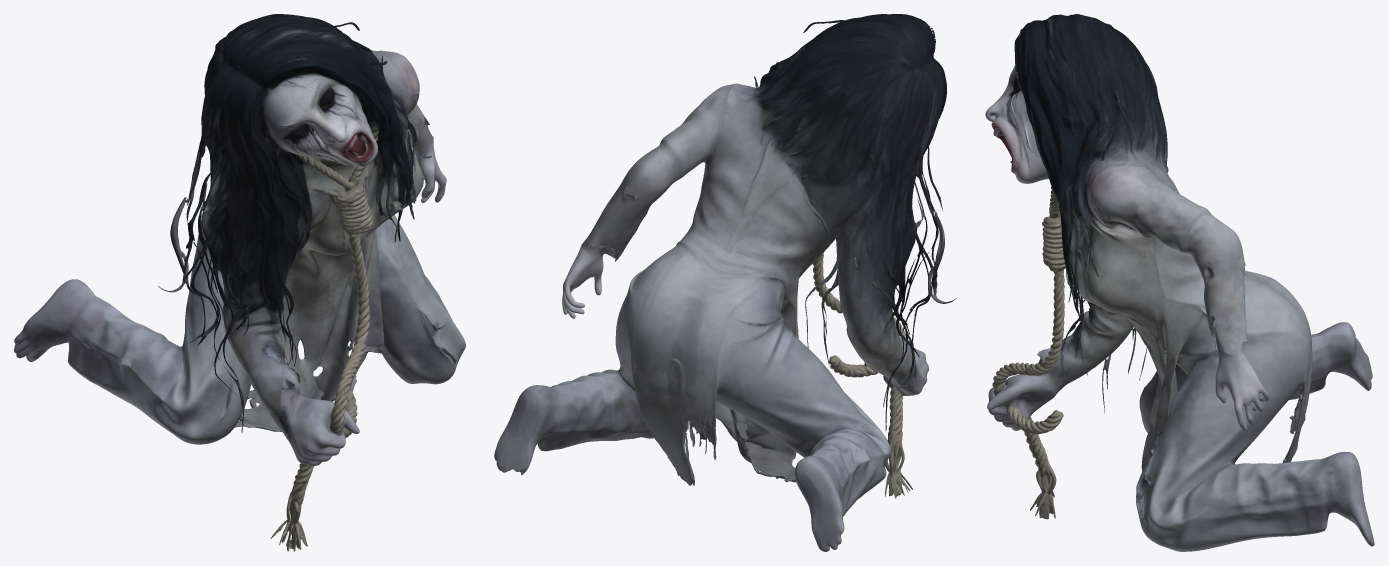
The model's file is quy-nu-treo-co.glb.
3 renders of one model, left to right at view 1: azimuth 30°, elevation 25°; view 2: azimuth 150°, elevation 25°; view 3: azimuth 270°, elevation 25°, orthographic. The views are drawn at different scales.
Size of the model in its own units: 0.7413 by 0.9902 by 0.7031.
1 material, 1 textured.
